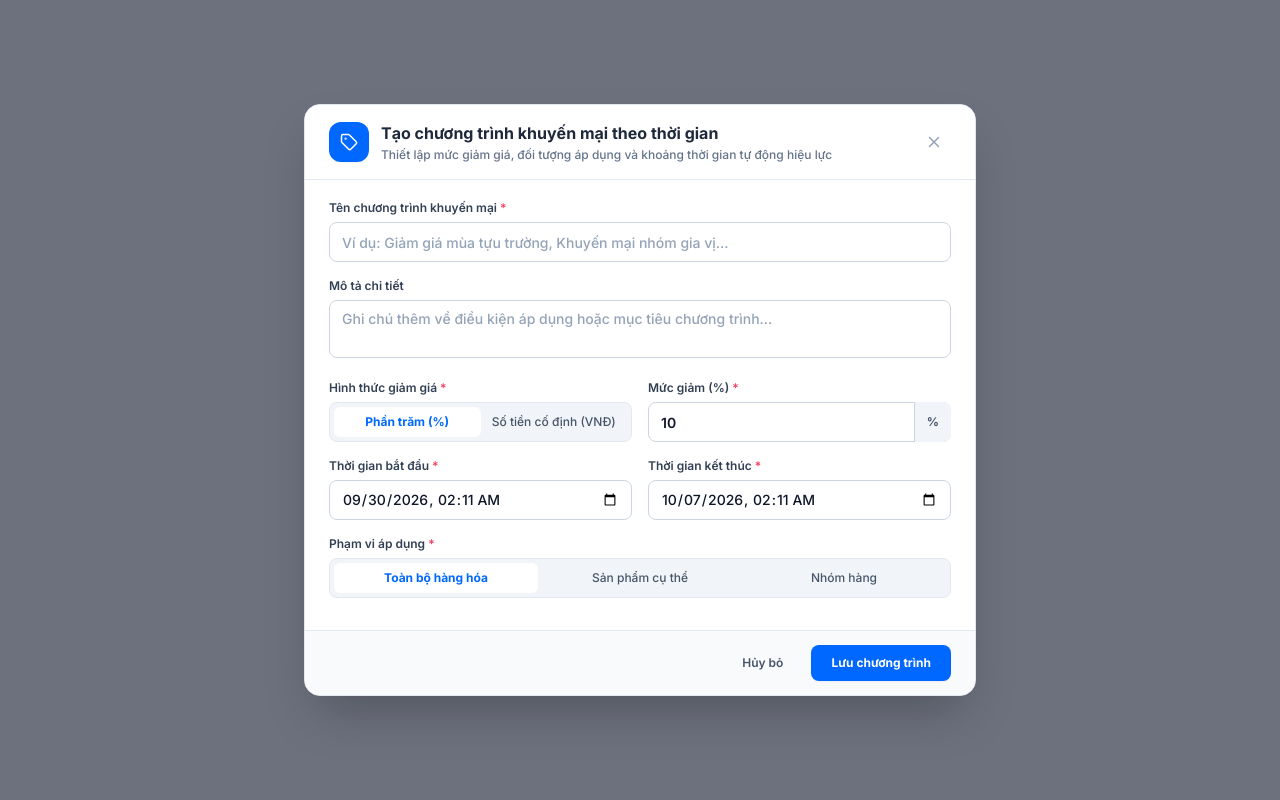
Test: PromotionFormModal Redesign › validates required inputs before submission
The image size is (1280, 800).
Step 1. Click the button "Lưu chương trình" → (881, 663), box 811,645 -> 951,681
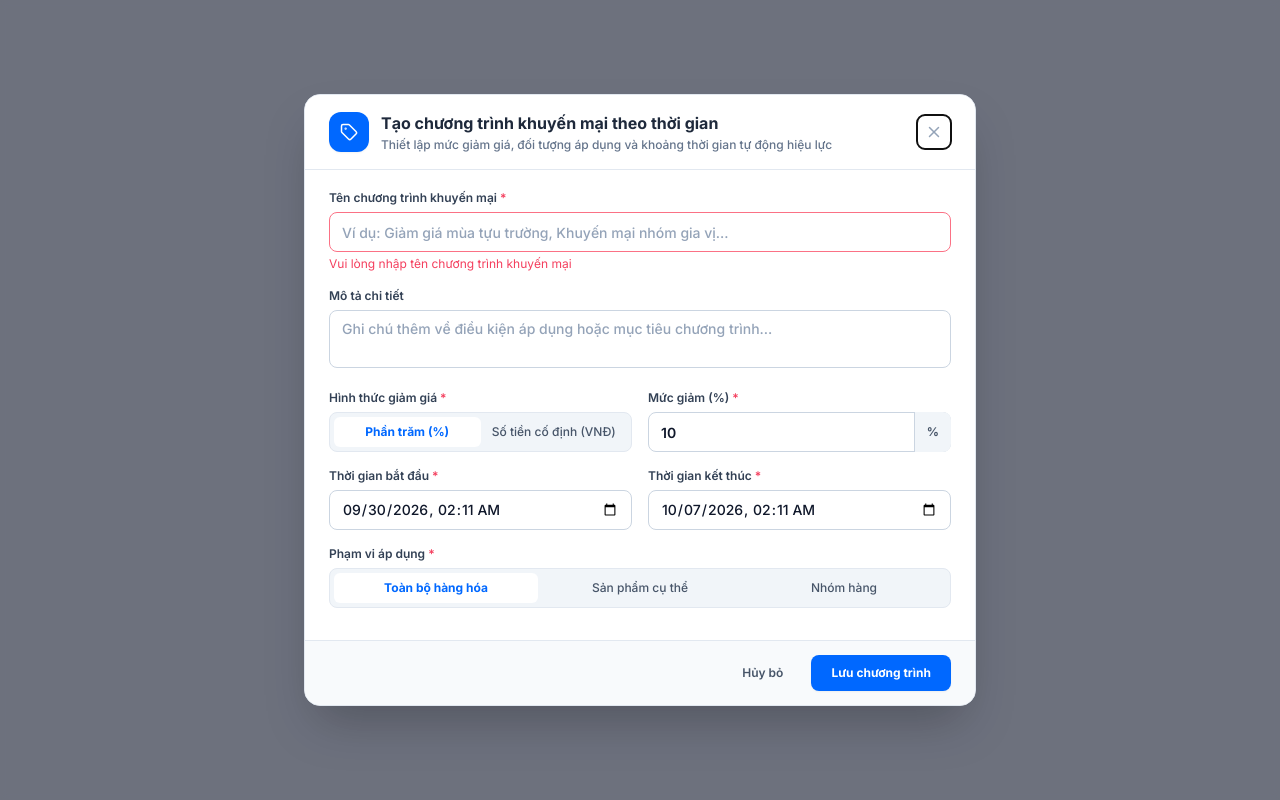
Check: the text "Vui lòng nhập tên chương trình khuyến mại" is shown, box 329,256 -> 572,271
